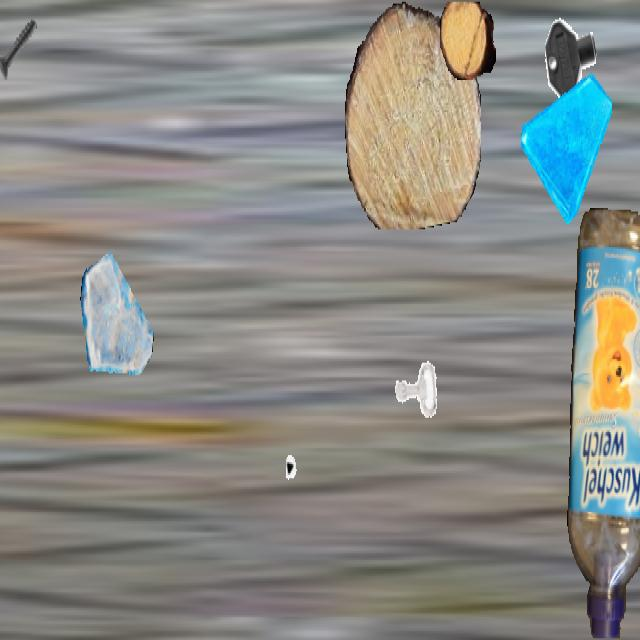glass: (521, 62, 611, 222), (80, 247, 154, 379)
metal: (286, 423, 348, 533), (541, 2, 603, 112), (389, 343, 441, 436), (0, 2, 43, 94)
plastic: (566, 208, 640, 638)
wood: (345, 2, 481, 229), (440, 2, 496, 80)
